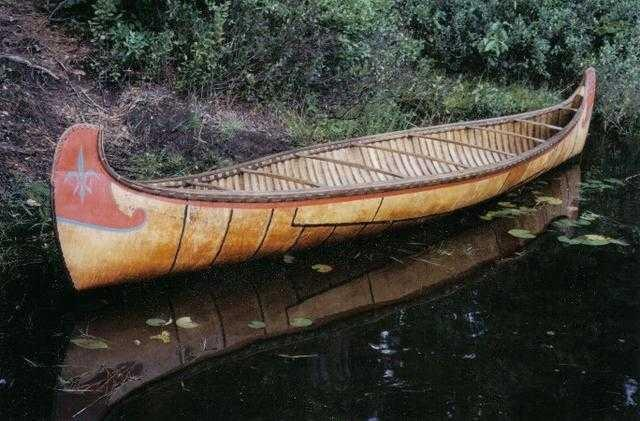kayak: (49, 75, 603, 296)
